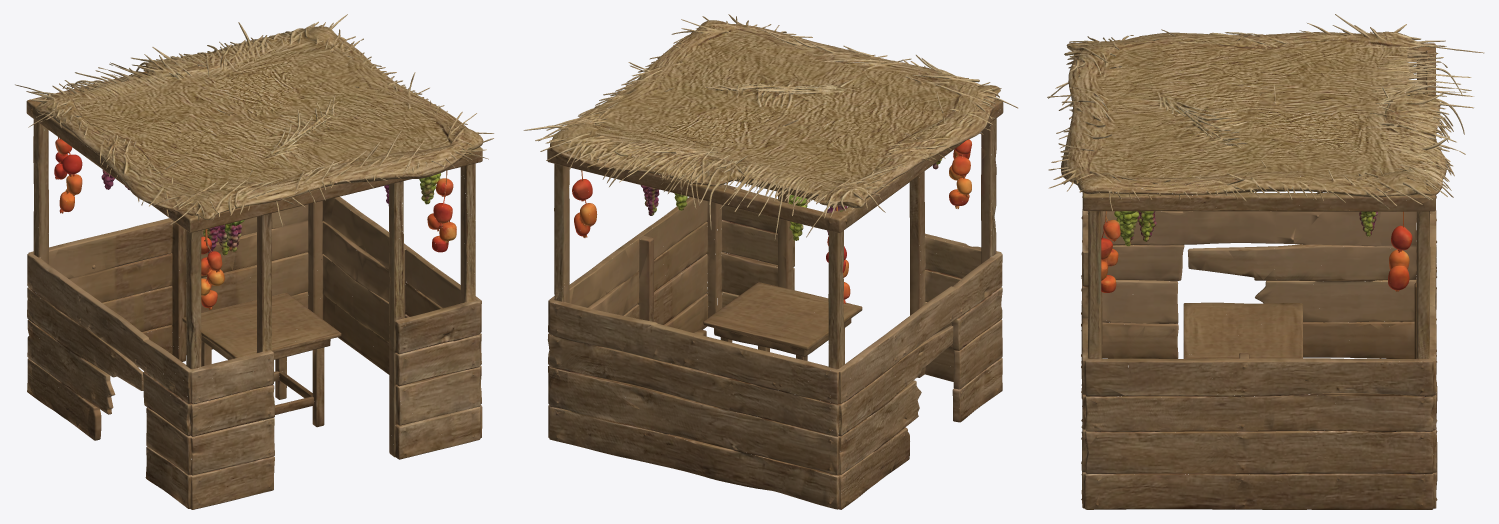
File: sukkah.glb
3 renders of one model, left to right at view 1: azimuth 30°, elevation 25°; view 2: azimuth 150°, elevation 25°; view 3: azimuth 270°, elevation 25°, orthographic. The views are drawn at different scales.
Visible parts, largest first — view 1: tripo_node_b1190b9c-6d47-4c78-9e50-39e949a32814; view 2: tripo_node_b1190b9c-6d47-4c78-9e50-39e949a32814; view 3: tripo_node_b1190b9c-6d47-4c78-9e50-39e949a32814.
Boxes of the visible parts, x1,y1,x2,y2 form: tripo_node_b1190b9c-6d47-4c78-9e50-39e949a32814: (15, 14, 493, 509); tripo_node_b1190b9c-6d47-4c78-9e50-39e949a32814: (523, 14, 1018, 509); tripo_node_b1190b9c-6d47-4c78-9e50-39e949a32814: (1047, 14, 1484, 509).
Size of the model in its own units: 0.8677 by 0.7734 by 0.8937.
1 material, 1 textured.
